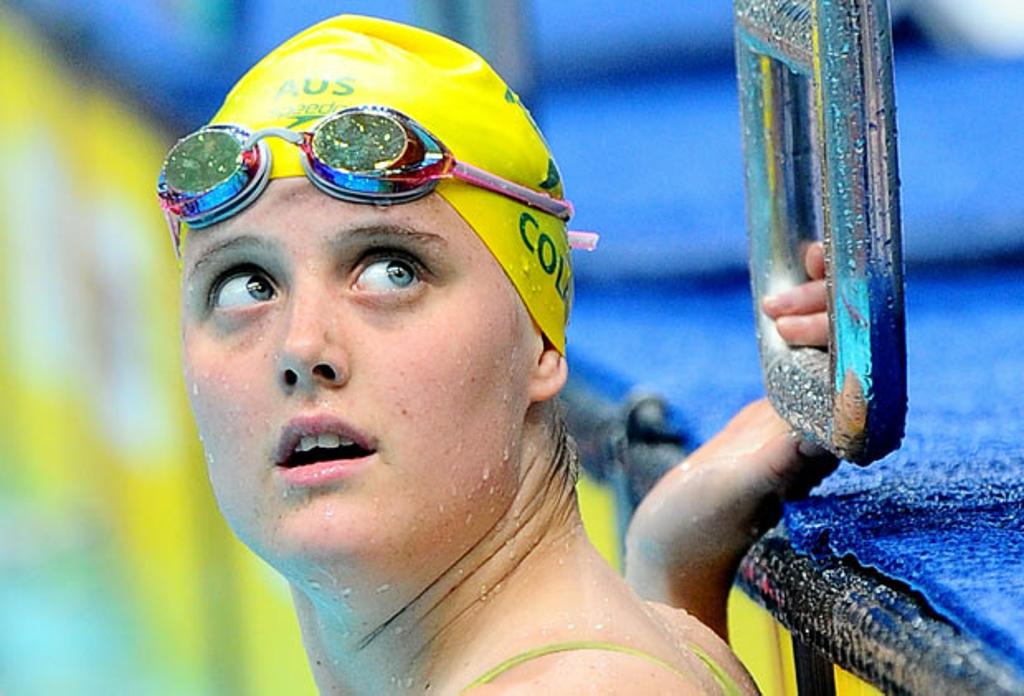face: (182, 208, 476, 556)
